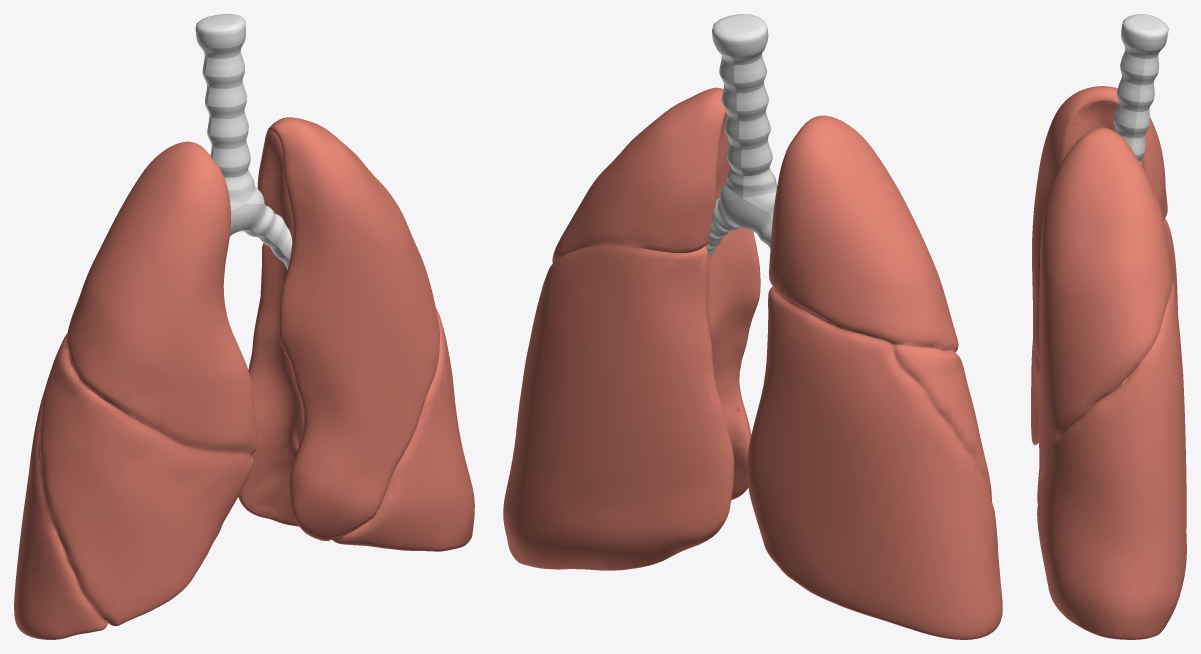
Rendered from akciğer_v04.fbx.
3 renders of one model, left to right at view 1: azimuth 30°, elevation 25°; view 2: azimuth 150°, elevation 25°; view 3: azimuth 270°, elevation 25°, orthographic. The views are drawn at different scales.
Parts seen in each view (by area): view 1: sag lob, sol lob, trake; view 2: sag lob, sol lob, trake; view 3: sol lob, sag lob, trake.
Part boxes in pixels (x1=…): sag lob: x1=14, y1=141, x2=256, y2=639; sol lob: x1=238, y1=117, x2=474, y2=551; trake: x1=195, y1=14, x2=292, y2=269; sag lob: x1=747, y1=115, x2=1002, y2=639; sol lob: x1=503, y1=87, x2=760, y2=570; trake: x1=707, y1=14, x2=777, y2=256; sol lob: x1=1037, y1=127, x2=1186, y2=639; sag lob: x1=1031, y1=86, x2=1177, y2=445; trake: x1=1113, y1=14, x2=1168, y2=165.
Size of the model in its own units: 220 by 260 by 70.37.
